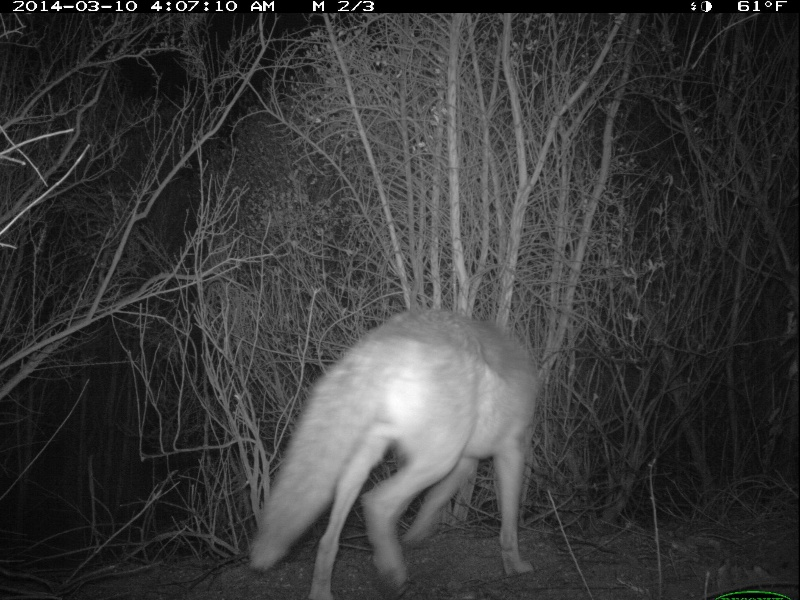coyote: (251, 308, 545, 600)
